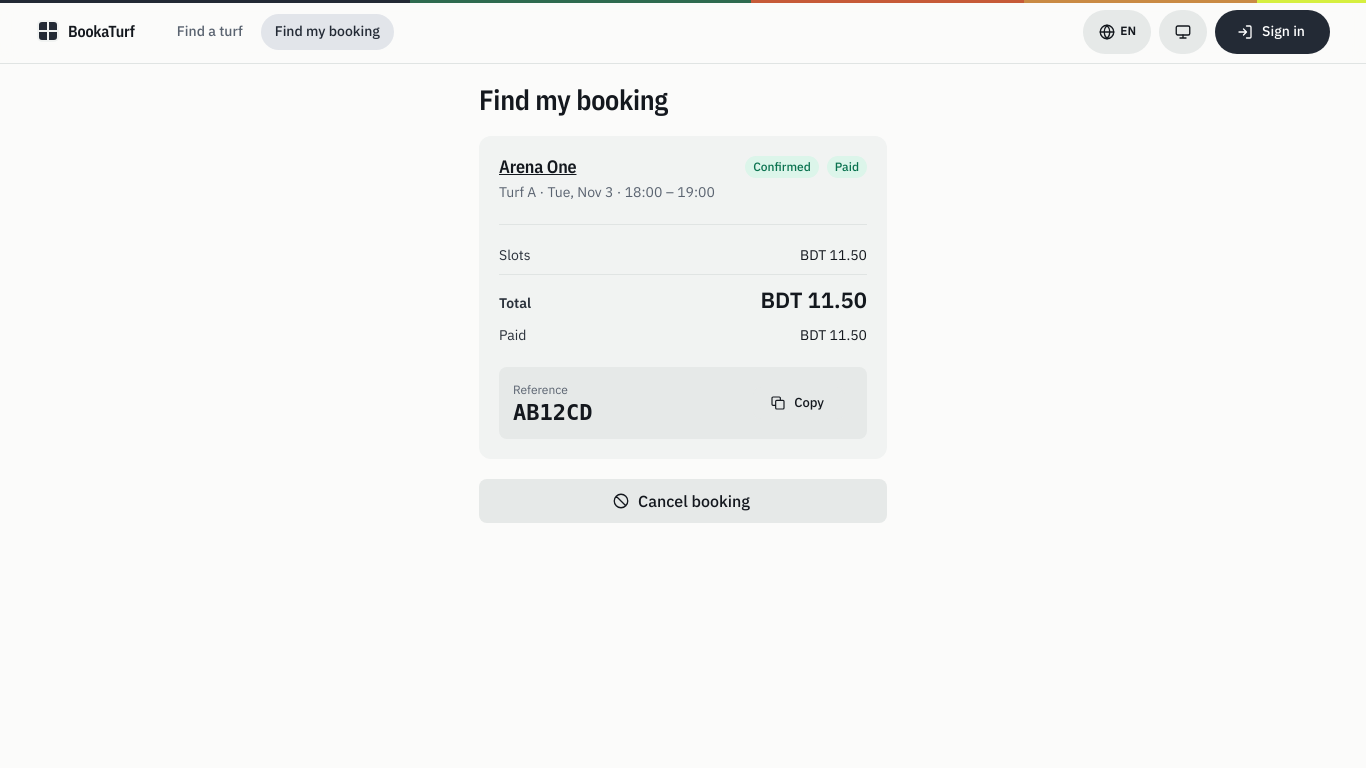
guest lookup › otp_invalid keeps dialog open with message
Click the button "Cancel booking" at (683, 501), box [479, 479, 887, 523]
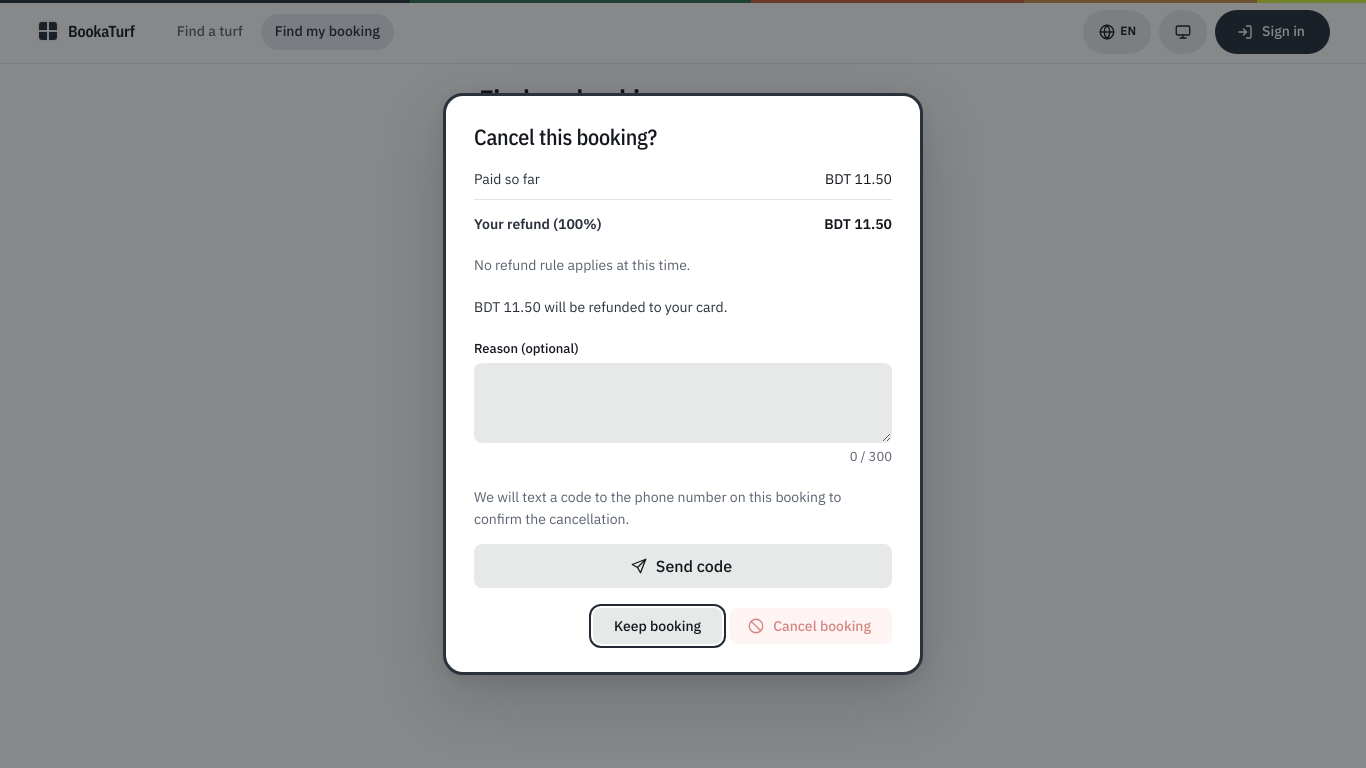
Click the button "Send code" at (683, 566), box [474, 544, 892, 588]
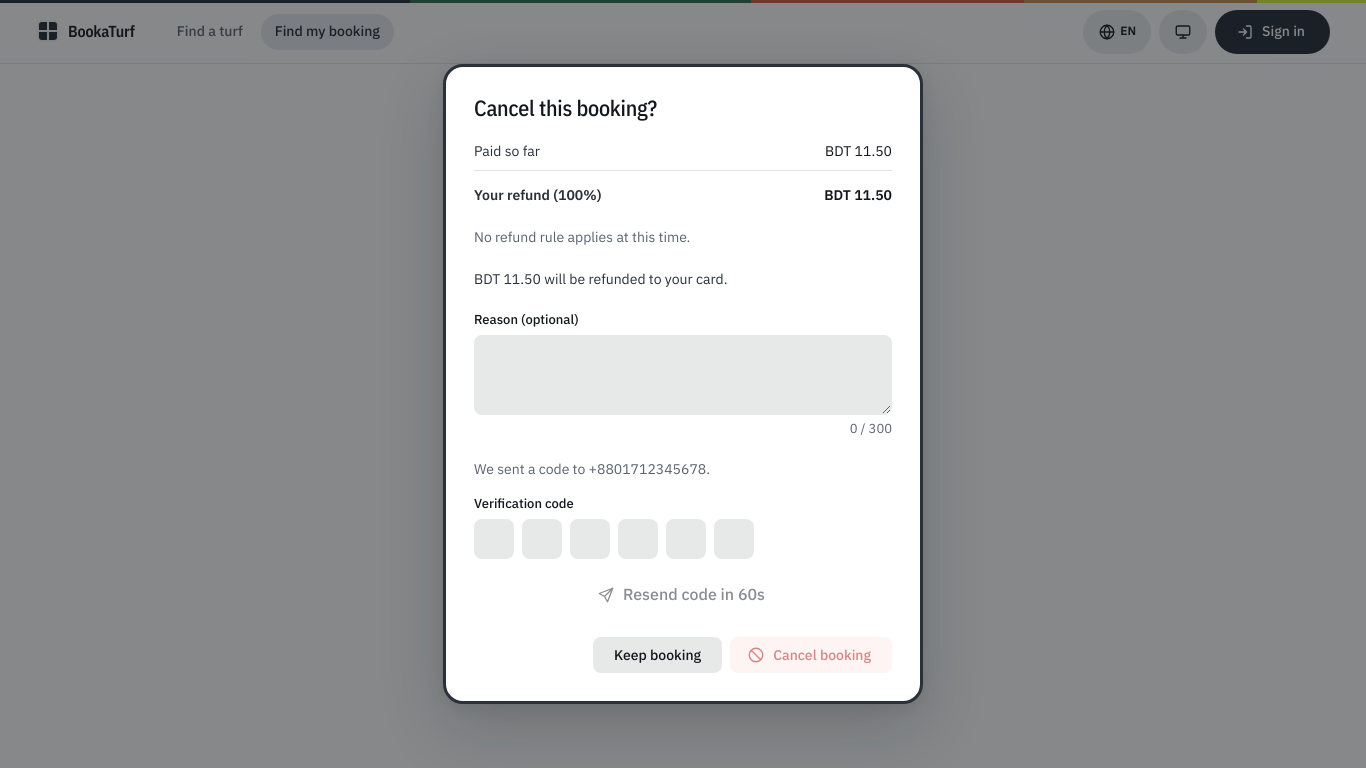
Click the field named "Digit 1 of 6" at (494, 539), box [474, 519, 514, 559]
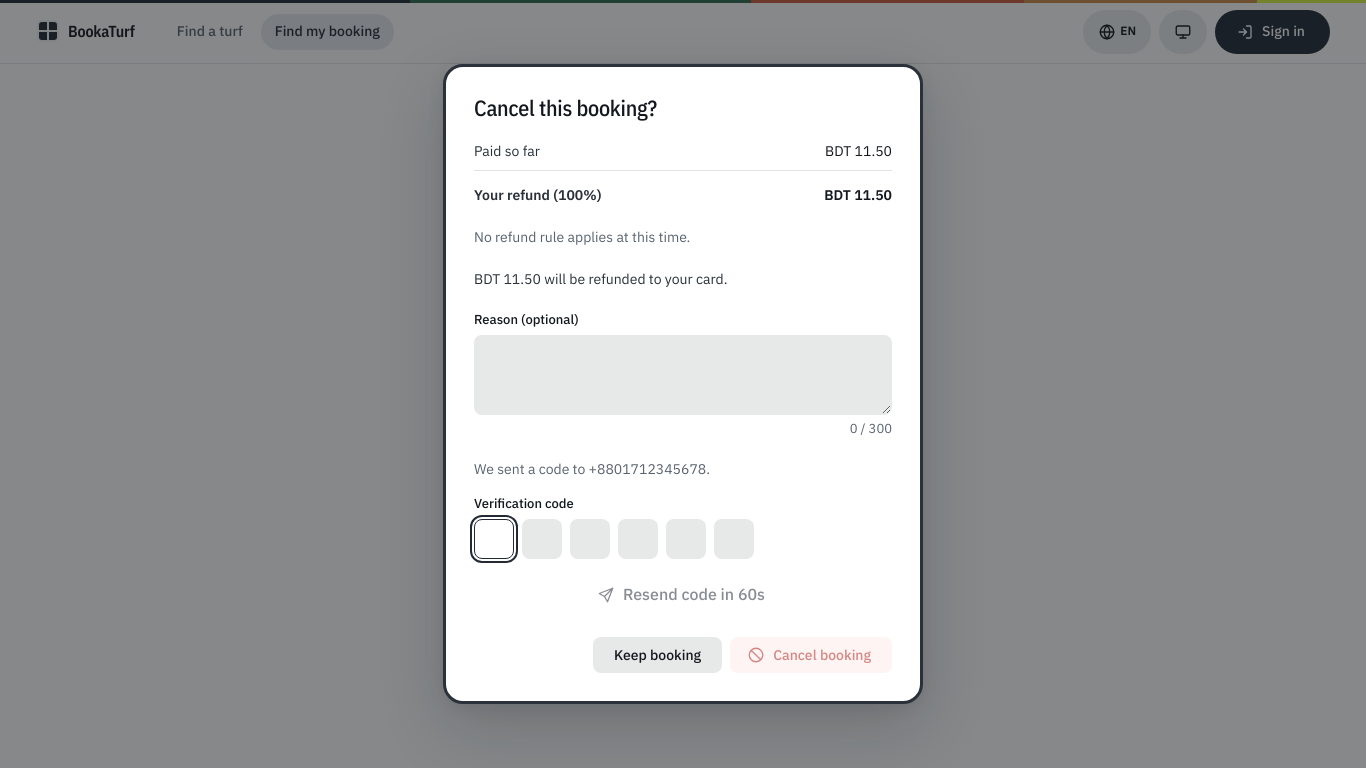
Type keys "000000"
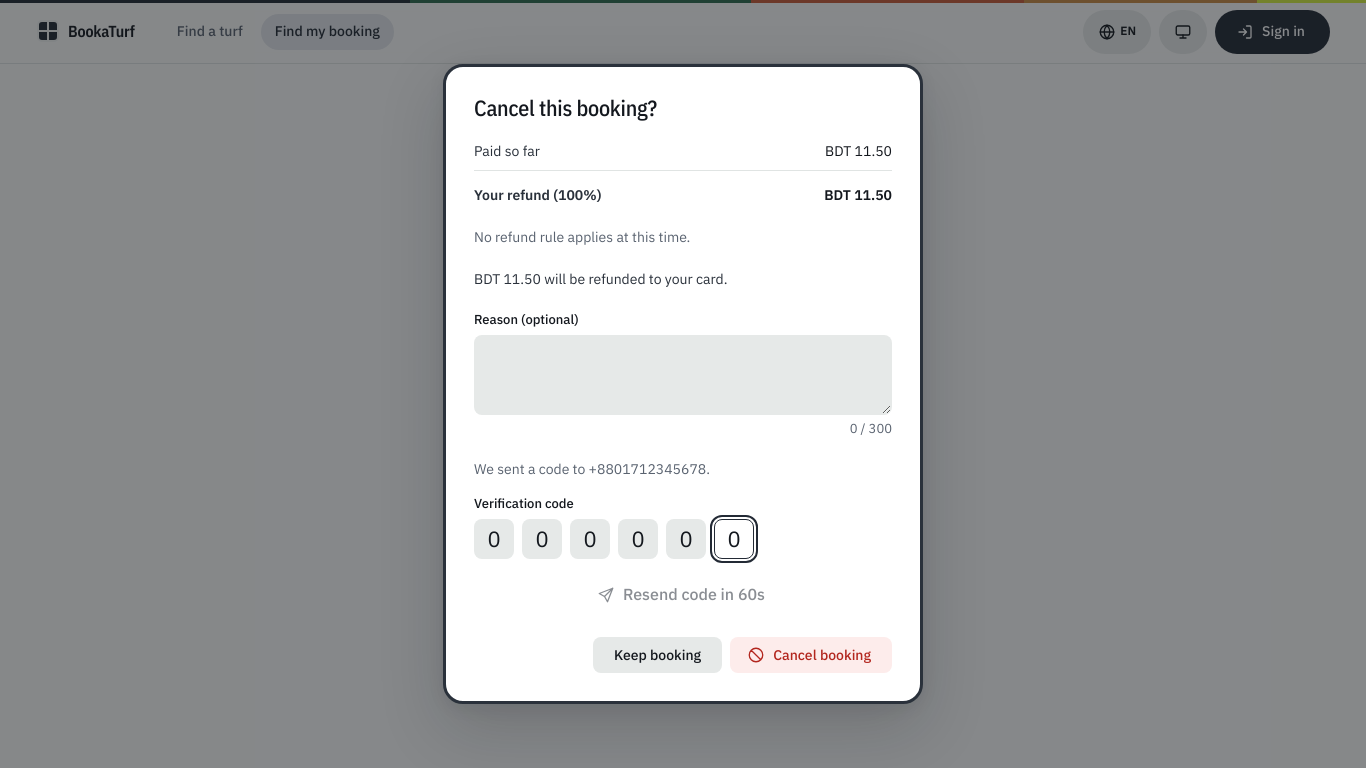
Click the button "Cancel booking" below "Verification code" at (811, 655), box [730, 637, 892, 673]
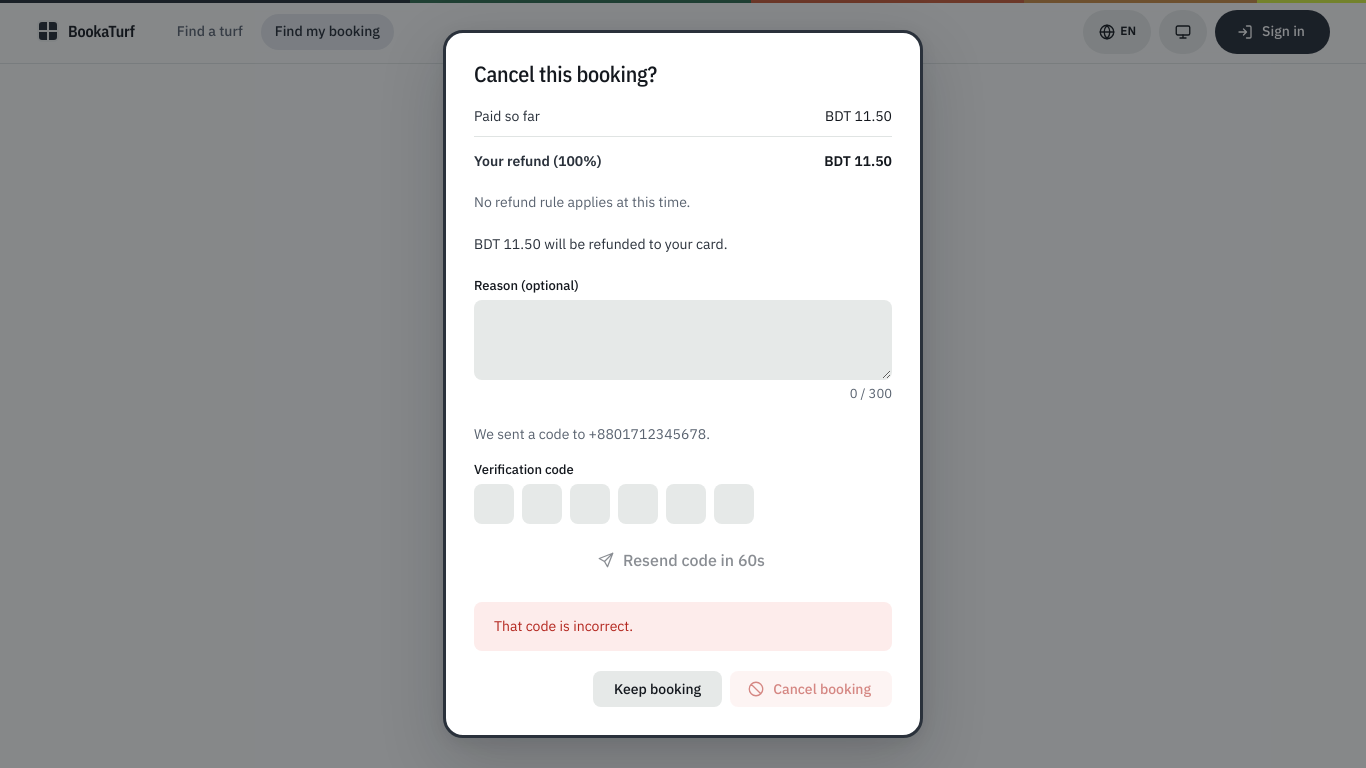
Result: the text "That code is incorrect." is shown at [474, 602, 892, 651]
